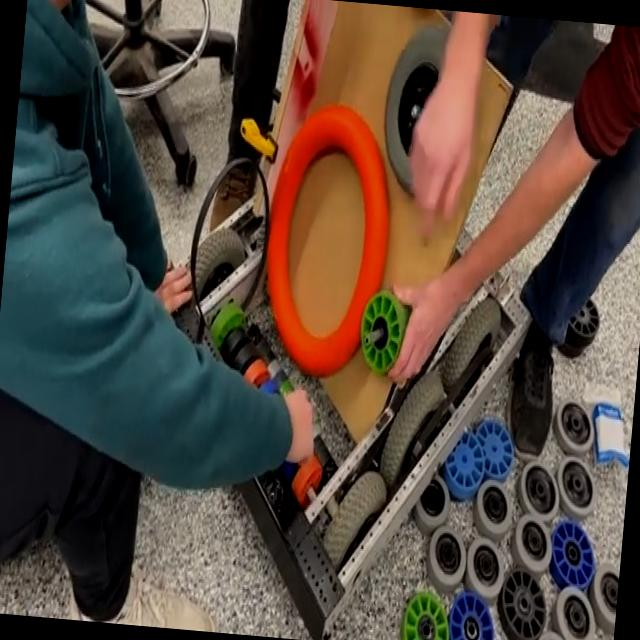note: (253, 95, 402, 384)
